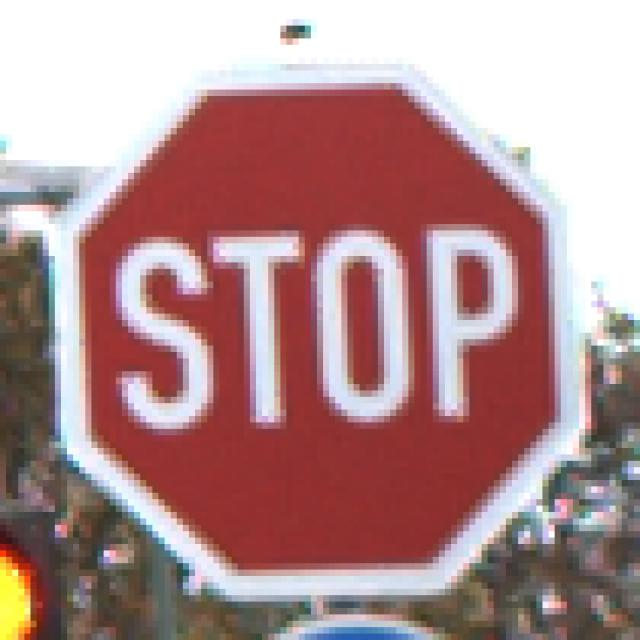STOP: (56, 59, 586, 590)
